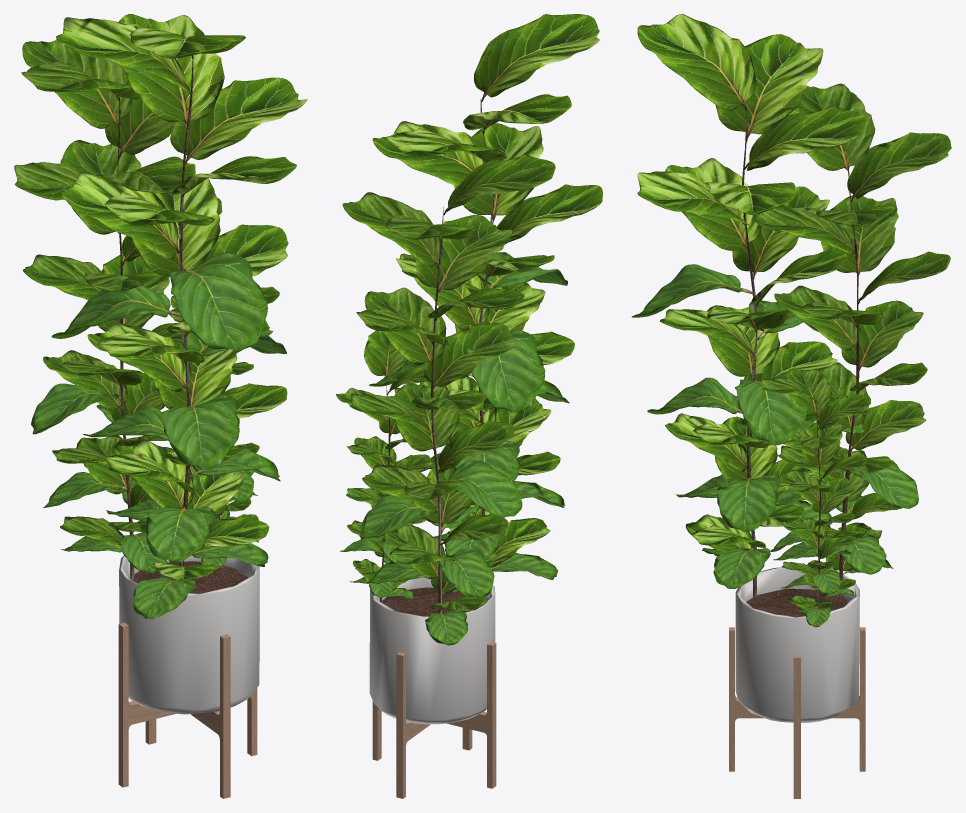
Rendered from ficus-lyrata.glb.
3 views of the same model, side by side, from view 1: azimuth 30°, elevation 25°; view 2: azimuth 150°, elevation 25°; view 3: azimuth 270°, elevation 25° (orthographic). The views are drawn at different scales.
Visible parts, largest first — view 1: HOJA 1_4, HOJA 1.001_10, HOJA 2_8, MACETA_0, HOJA 2.001_14, PATAS 1_3, PATAS 2_1, HOJA 1.002_16, TIERRA_2, TALLO.004_5, HOJA 2.002_20, TALLO.005_11; view 2: HOJA 1.001_10, HOJA 1_4, MACETA_0, HOJA 2_8, HOJA 2.001_14, HOJA 1.002_16, PATAS 1_3, PATAS 2_1, TIERRA_2, HOJA 2.002_20, TALLO.005_11; view 3: HOJA 1_4, HOJA 1.001_10, MACETA_0, HOJA 2_8, HOJA 1.002_16, HOJA 2.001_14, PATAS 2_1, HOJA 2.002_20, TIERRA_2, PATAS 1_3, TALLO.004_5, TALLO.005_11.
Part boxes in pixels (x1,y1,x2,y2): HOJA 1_4: (56,14,307,580); HOJA 1.001_10: (14,39,222,547); HOJA 2_8: (51,252,286,618); MACETA_0: (119,555,259,714); HOJA 2.001_14: (31,383,196,572); PATAS 1_3: (118,622,257,787); PATAS 2_1: (145,634,230,798); HOJA 1.002_16: (169,286,279,520); TIERRA_2: (132,561,248,593); TALLO.004_5: (179,59,193,566); HOJA 2.002_20: (201,470,258,569); TALLO.005_11: (117,97,134,579); HOJA 1.001_10: (342,155,555,611); HOJA 1_4: (372,14,602,567); MACETA_0: (369,577,495,724); HOJA 2_8: (369,252,569,579); HOJA 2.001_14: (360,460,522,645); HOJA 1.002_16: (336,330,432,590); PATAS 1_3: (372,642,496,788); PATAS 2_1: (396,652,472,798); TIERRA_2: (382,587,469,616); HOJA 2.002_20: (340,539,414,598); TALLO.005_11: (430,207,443,613); HOJA 1_4: (637,14,866,552); HOJA 1.001_10: (751,83,951,571); MACETA_0: (735,567,859,722); HOJA 2_8: (631,264,831,588); HOJA 1.002_16: (761,368,870,610); HOJA 2.001_14: (773,423,918,574); PATAS 2_1: (729,627,865,771); HOJA 2.002_20: (770,531,854,627); TIERRA_2: (746,588,848,616); PATAS 1_3: (793,655,800,798); TALLO.004_5: (742,109,757,599); TALLO.005_11: (839,167,859,599).
Size of the model in its own units: 0.3759 by 1.23 by 0.5043.
Materials: 7 (6 with a texture image).
